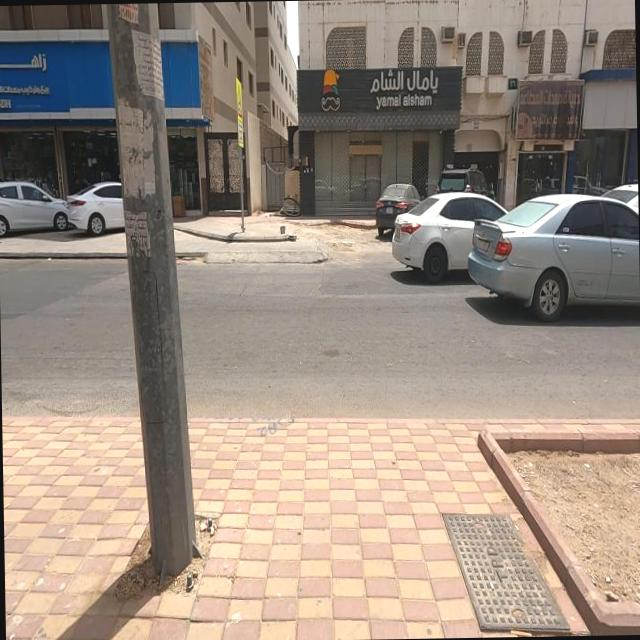debris: (462, 14, 629, 198)
